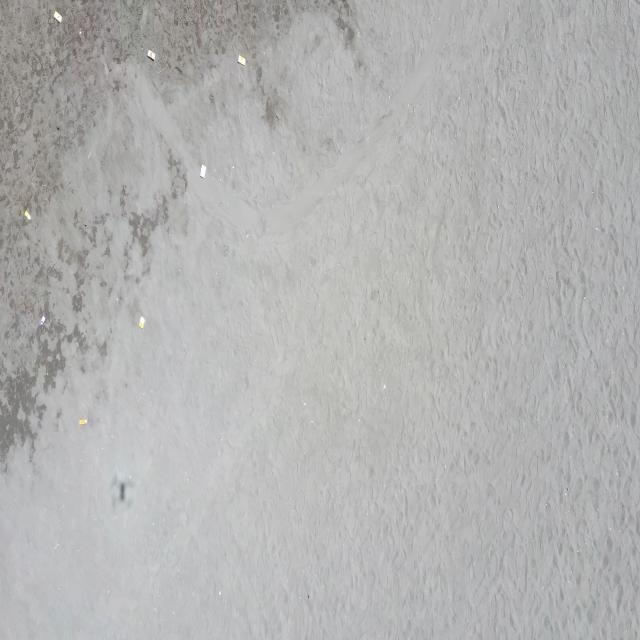retort-pouch: (199, 162, 207, 180), (54, 10, 63, 24), (138, 314, 145, 330), (238, 54, 246, 67), (147, 50, 156, 61), (25, 209, 32, 221), (79, 416, 86, 428), (40, 314, 46, 326)
